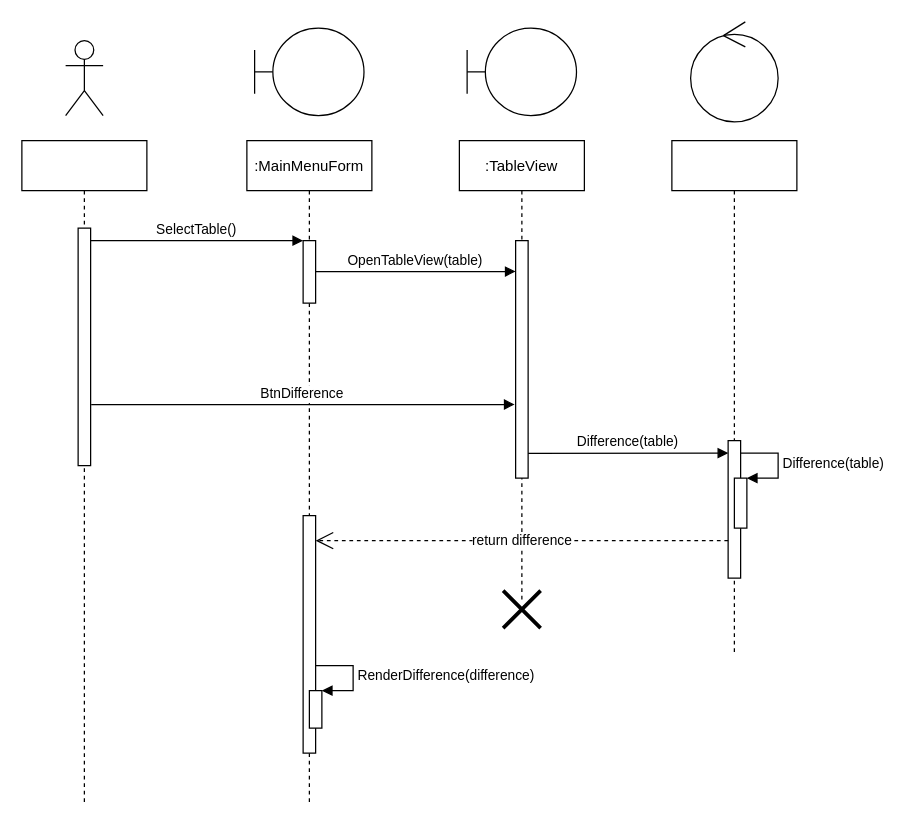
Some shapes in this 906 by 825 pixel diagram are drawn without their labels. Each missing label, with the box of its shape:
:DbManager: (671, 139, 797, 653)
:User: (21, 139, 147, 803)
